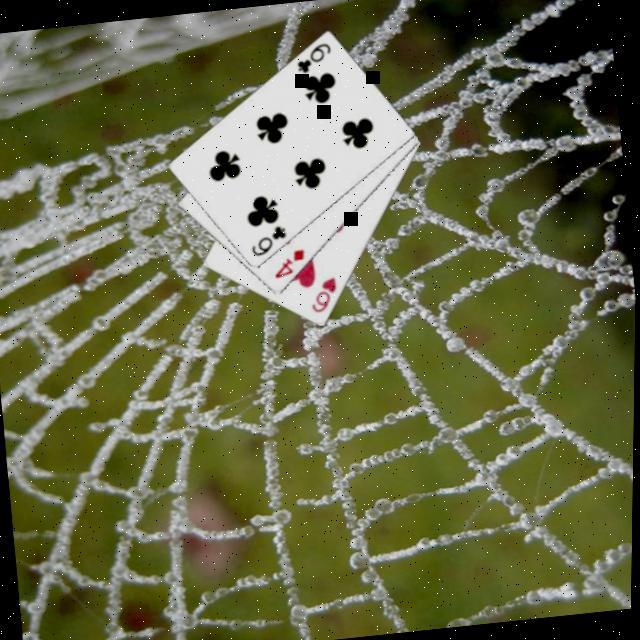4D: (271, 243, 311, 280)
6C: (248, 220, 292, 258), (293, 37, 337, 75)
6H: (308, 271, 344, 314)
